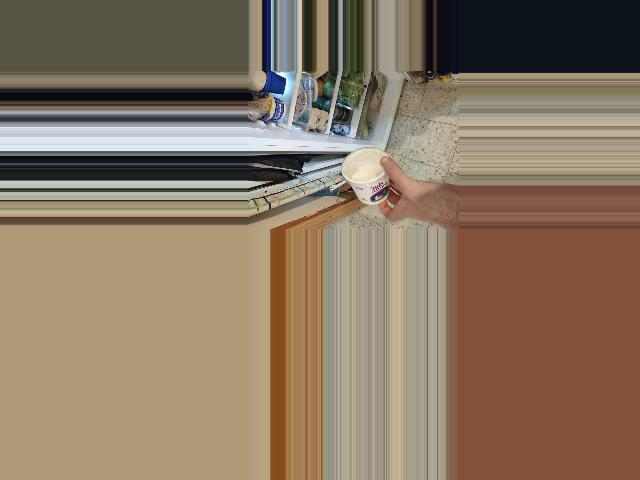cotage: (346, 149, 391, 204)
